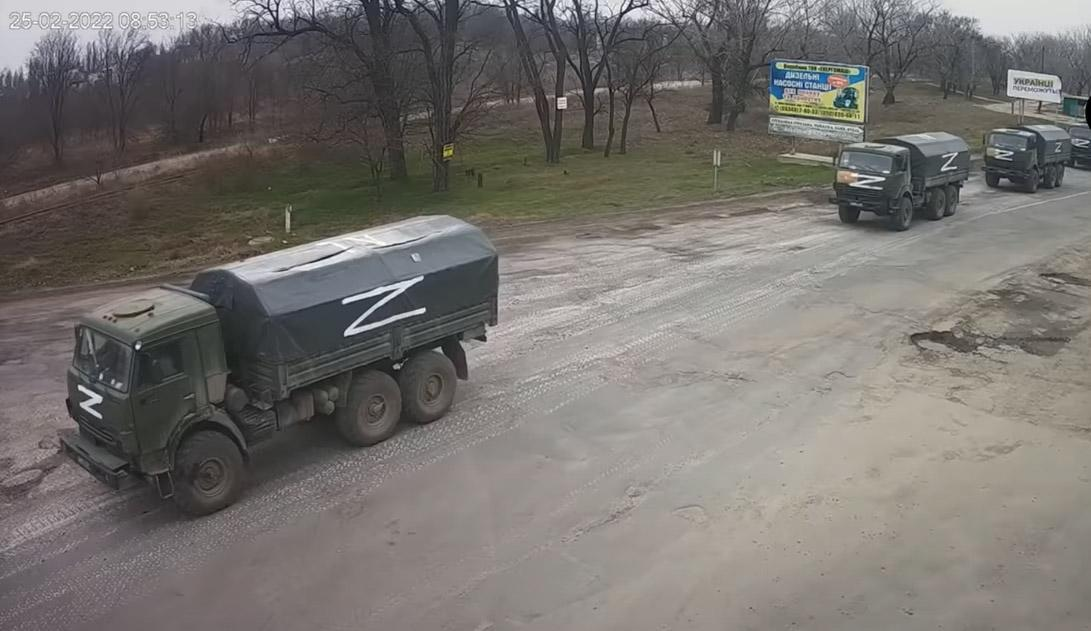truck: (57, 209, 508, 498), (833, 132, 968, 225), (982, 118, 1068, 194)
